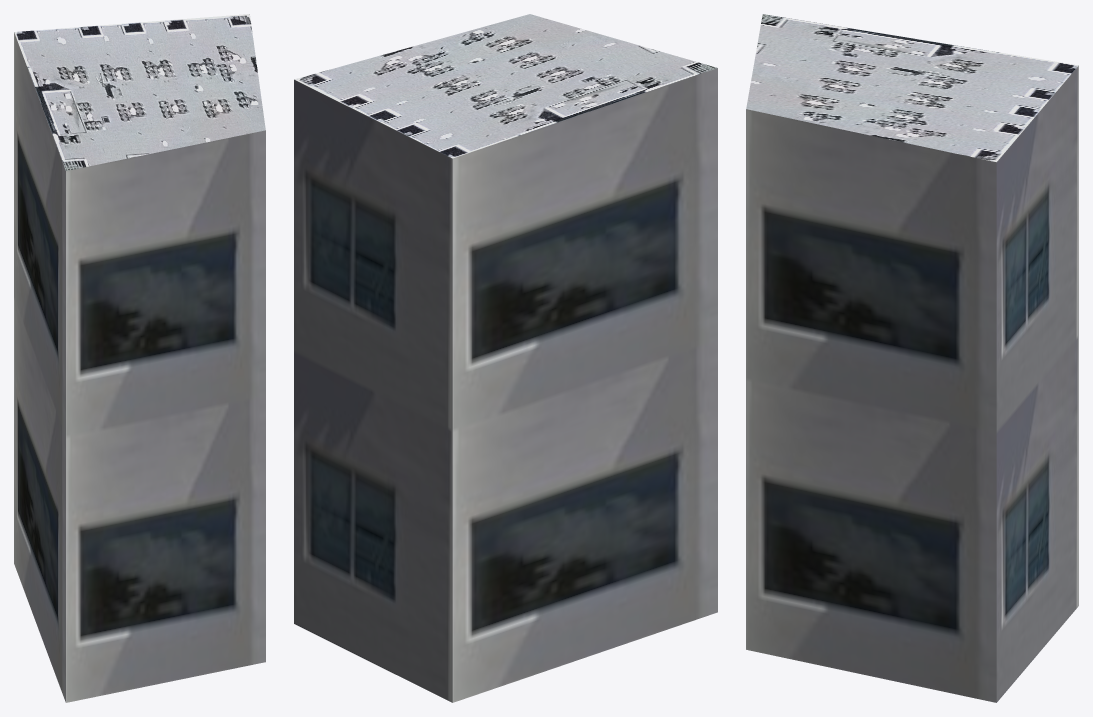
Rendered from ResTex__4587.fbx.
The picture shows the model from 3 angles, left to right: view 1: azimuth 30°, elevation 25°; view 2: azimuth 150°, elevation 25°; view 3: azimuth 270°, elevation 25°; orthographic projection. The views are drawn at different scales.
Visible parts, largest first — view 1: CityEngineMaterial_10_m, CityEngineMaterial_4_m; view 2: CityEngineMaterial_10_m, CityEngineMaterial_4_m; view 3: CityEngineMaterial_10_m, CityEngineMaterial_4_m.
Part boxes in pixels (x1,y1,x2,y2): CityEngineMaterial_10_m: [14, 32, 265, 702]; CityEngineMaterial_4_m: [14, 14, 265, 170]; CityEngineMaterial_10_m: [294, 68, 717, 702]; CityEngineMaterial_4_m: [294, 14, 716, 158]; CityEngineMaterial_10_m: [746, 65, 1078, 702]; CityEngineMaterial_4_m: [746, 14, 1078, 162].
Bounding box in the file's own units: 3.53 × 6 × 3.35.
Materials: 2 (2 with a texture image).
